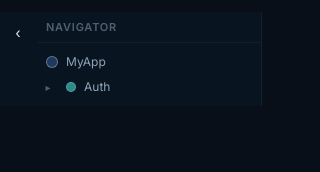
TreeNav component › expands feature on arrow click
Click the button with class "tree-accordion__arrow" at (48, 86), box top-left (38, 80), bottom-right (58, 92)
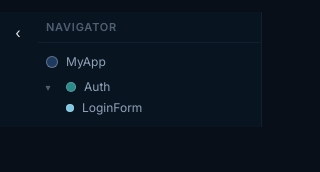
Expected: the button titled "LoginForm" is shown, top-left (58, 97), bottom-right (261, 118)
